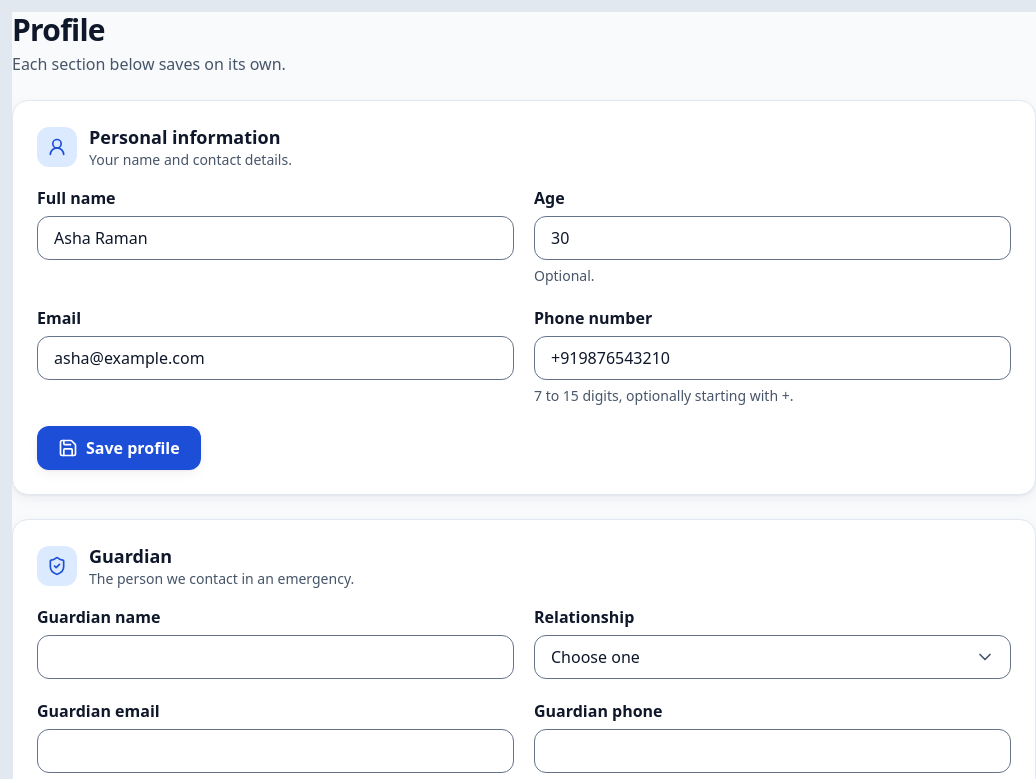
Test case: Profile page › shows the server error inline (duplicate email)
Expected: the field labelled "Full name" is shown, [37,216,514,260]
Click the button "Save profile" at (119, 448), box [37,426,201,470]
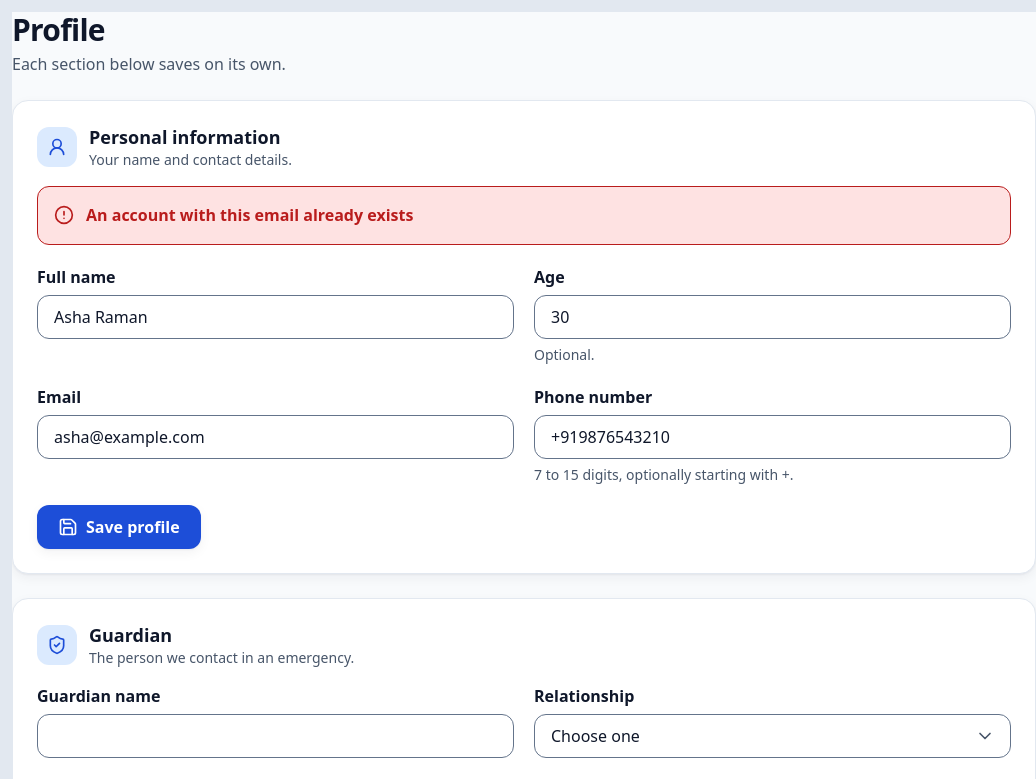
Result: the text "An account with this email already exists" is shown at [86,203,413,228]
